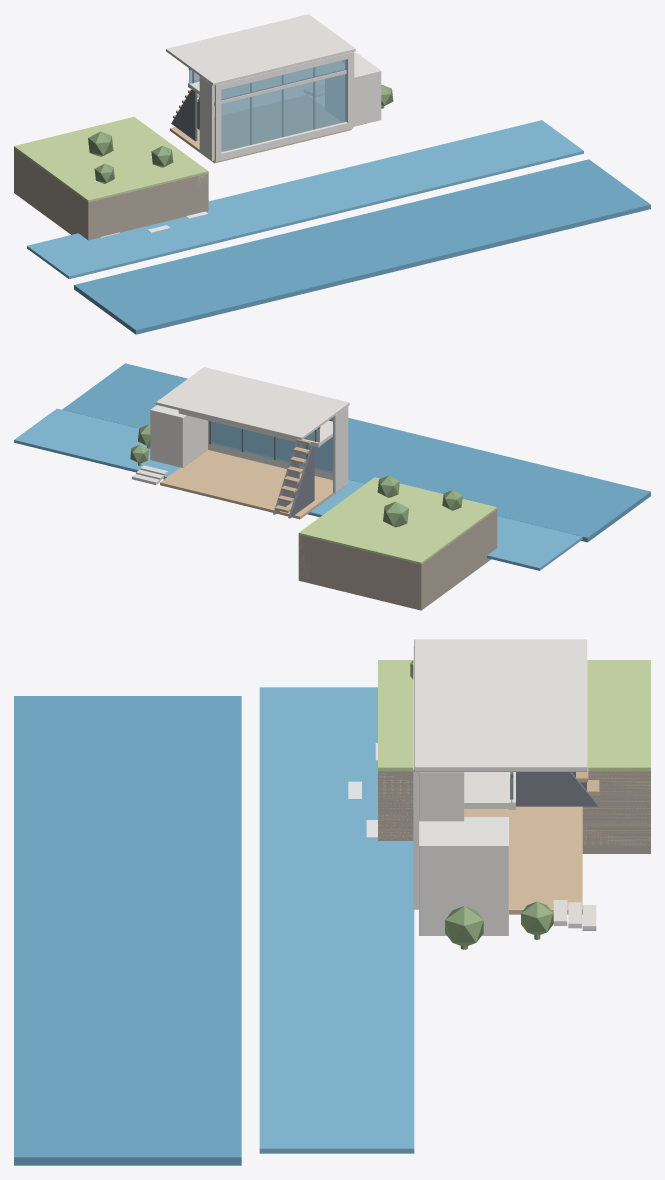
Rendered from house.glb.
3 renders of one model, top to bottom at view 1: azimuth 30°, elevation 25°; view 2: azimuth 150°, elevation 25°; view 3: azimuth 270°, elevation 25°, orthographic. The views are drawn at different scales.
Visible parts, largest first — view 1: SEA_DEEP, SEA, CLIFF_TOP, CLIFF, WINDOW_PANE, ROOF, ANNEX, RIGHT_PIER, BACK_SILL, BACK_HEAD, STAIR_SIDE_R, FLOOR (+4 smaller); view 2: SEA_DEEP, CLIFF, SEA, CLIFF_TOP, ROOF, FLOOR, ANNEX, WINDOW_PANE, RIGHT_PIER, STAIR_SIDE_R, BACK_SILL, SLAB_BEAM (+3 smaller); view 3: SEA_DEEP, SEA, ROOF, CLIFF_TOP, ANNEX, CLIFF, FLOOR, CLIFF_FACE, STAIR_SIDE_L, LEFT_PIER, SLAB, BUSH_CROWN_0 (+2 smaller).
Boxes of the visible parts, <box> form: SEA_DEEP: <box>74,159,650,334</box>; SEA: <box>27,120,583,279</box>; CLIFF_TOP: <box>14,117,208,202</box>; CLIFF: <box>14,148,208,240</box>; WINDOW_PANE: <box>221,59,346,152</box>; ROOF: <box>166,14,355,85</box>; ANNEX: <box>343,53,381,126</box>; RIGHT_PIER: <box>199,76,214,161</box>; BACK_SILL: <box>214,122,353,161</box>; BACK_HEAD: <box>214,52,353,90</box>; STAIR_SIDE_R: <box>171,89,197,141</box>; FLOOR: <box>170,117,351,163</box>; SEA_DEEP: <box>62,363,650,542</box>; CLIFF: <box>298,509,497,610</box>; SEA: <box>14,408,582,570</box>; CLIFF_TOP: <box>298,477,497,564</box>; ROOF: <box>156,367,349,440</box>; FLOOR: <box>160,450,344,519</box>; ANNEX: <box>150,405,207,467</box>; WINDOW_PANE: <box>211,417,332,473</box>; RIGHT_PIER: <box>333,406,348,492</box>; STAIR_SIDE_R: <box>288,445,314,518</box>; BACK_SILL: <box>211,444,332,480</box>; SLAB_BEAM: <box>178,410,320,447</box>; SEA_DEEP: <box>14,696,241,1165</box>; SEA: <box>259,687,414,1153</box>; ROOF: <box>414,639,587,771</box>; CLIFF_TOP: <box>378,660,650,771</box>; ANNEX: <box>419,817,508,935</box>; CLIFF: <box>378,771,650,853</box>; FLOOR: <box>464,806,582,914</box>; CLIFF_FACE: <box>378,771,650,845</box>; STAIR_SIDE_L: <box>516,772,598,806</box>; LEFT_PIER: <box>419,772,464,821</box>; SLAB: <box>464,772,509,808</box>; BUSH_CROWN_0: <box>445,906,483,946</box>.
Size of the model in its own units: 24 by 5.62 by 14.
